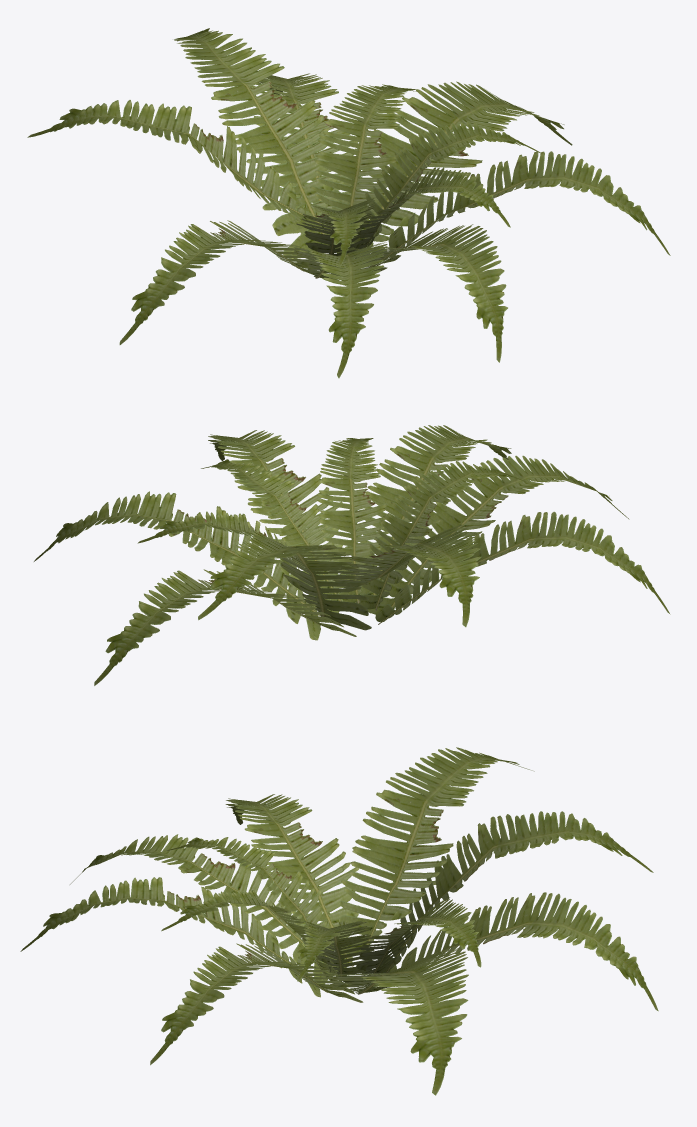
The model's file is SM_S_Soul_Plants_Fern.glb.
3 renders of one model, top to bottom at view 1: azimuth 30°, elevation 25°; view 2: azimuth 150°, elevation 25°; view 3: azimuth 270°, elevation 25°, orthographic. The views are drawn at different scales.
Parts seen in each view (by area): view 1: SM_S_Soul_Plants_Fern; view 2: SM_S_Soul_Plants_Fern; view 3: SM_S_Soul_Plants_Fern.
Part boxes in pixels (x1=…): SM_S_Soul_Plants_Fern: x1=27, y1=28, x2=670, y2=378; SM_S_Soul_Plants_Fern: x1=34, y1=425, x2=670, y2=685; SM_S_Soul_Plants_Fern: x1=20, y1=747, x2=658, y2=1095.
Size of the model in its own units: 4.5 by 1.26 by 4.56.
1 material, 1 textured.
